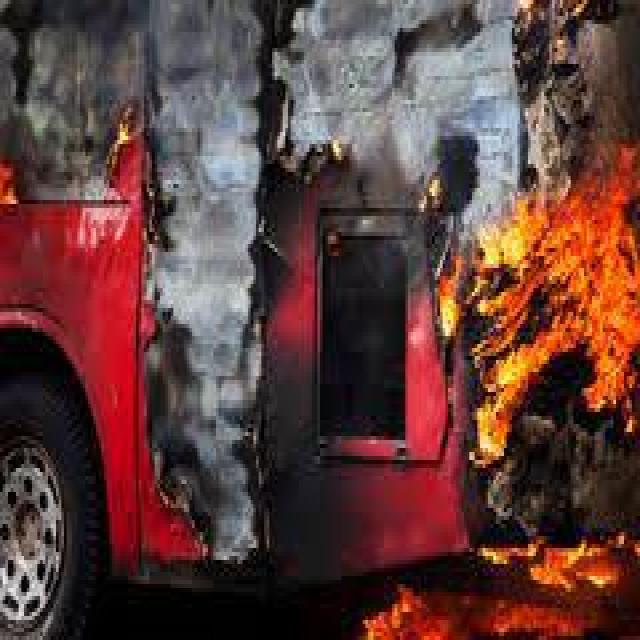fire: (424, 123, 634, 460), (353, 528, 633, 632), (109, 115, 129, 154), (0, 158, 16, 202)
